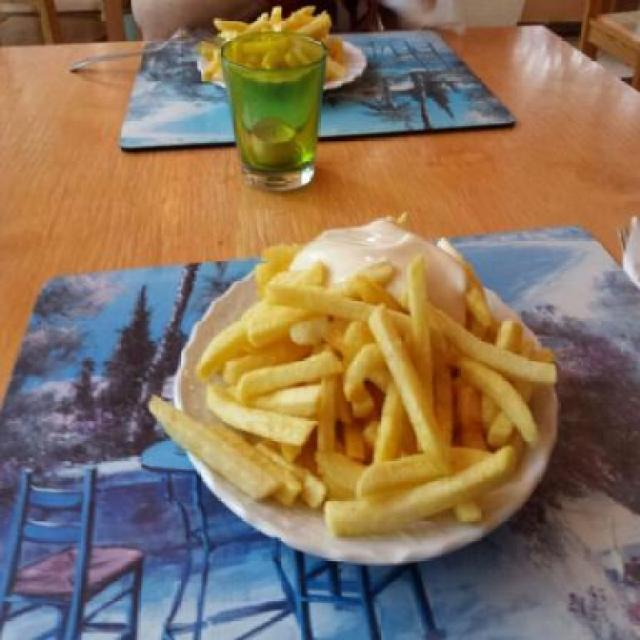French fries: (147, 234, 559, 528), (199, 5, 343, 87)
